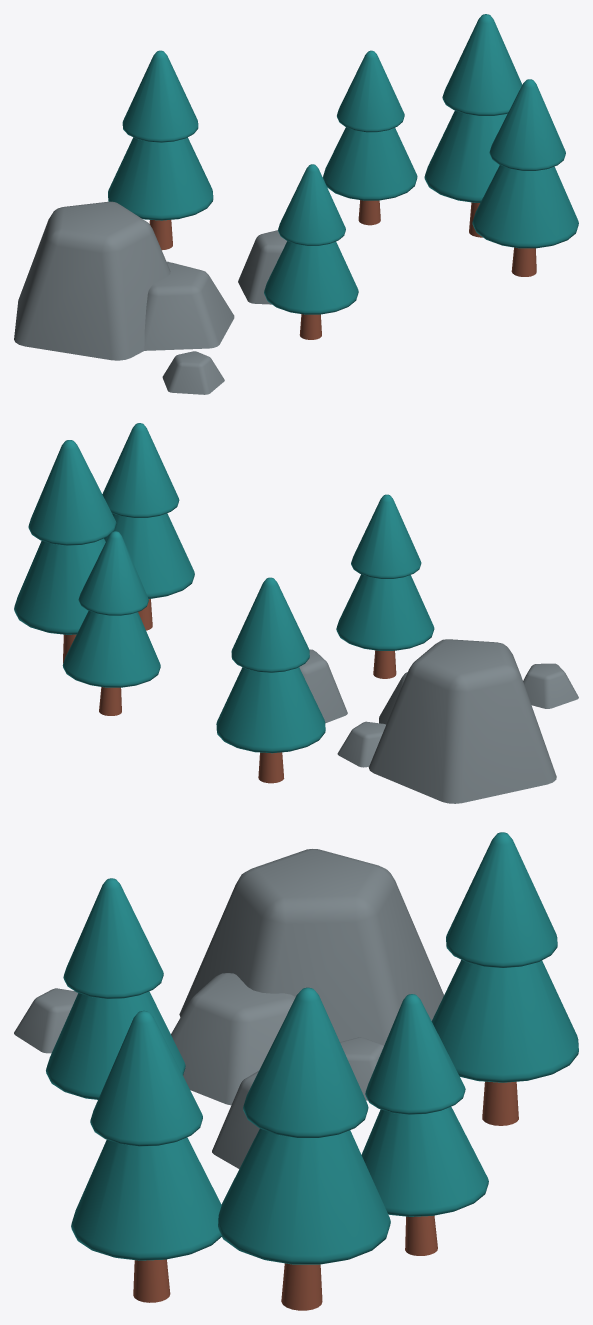
File: detail_forestA.glb
3 renders of one model, top to bottom at view 1: azimuth 30°, elevation 25°; view 2: azimuth 150°, elevation 25°; view 3: azimuth 270°, elevation 25°, orthographic. The views are drawn at different scales.
Parts seen in each view (by area): view 1: detail_forestA; view 2: detail_forestA; view 3: detail_forestA.
Part boxes in pixels (left/top/right/bottom): detail_forestA: left=14, top=14, right=578, bottom=394; detail_forestA: left=14, top=423, right=578, bottom=803; detail_forestA: left=14, top=832, right=578, bottom=1310.
Bounding box in the file's own units: 1.84 × 0.7338 × 1.18.
